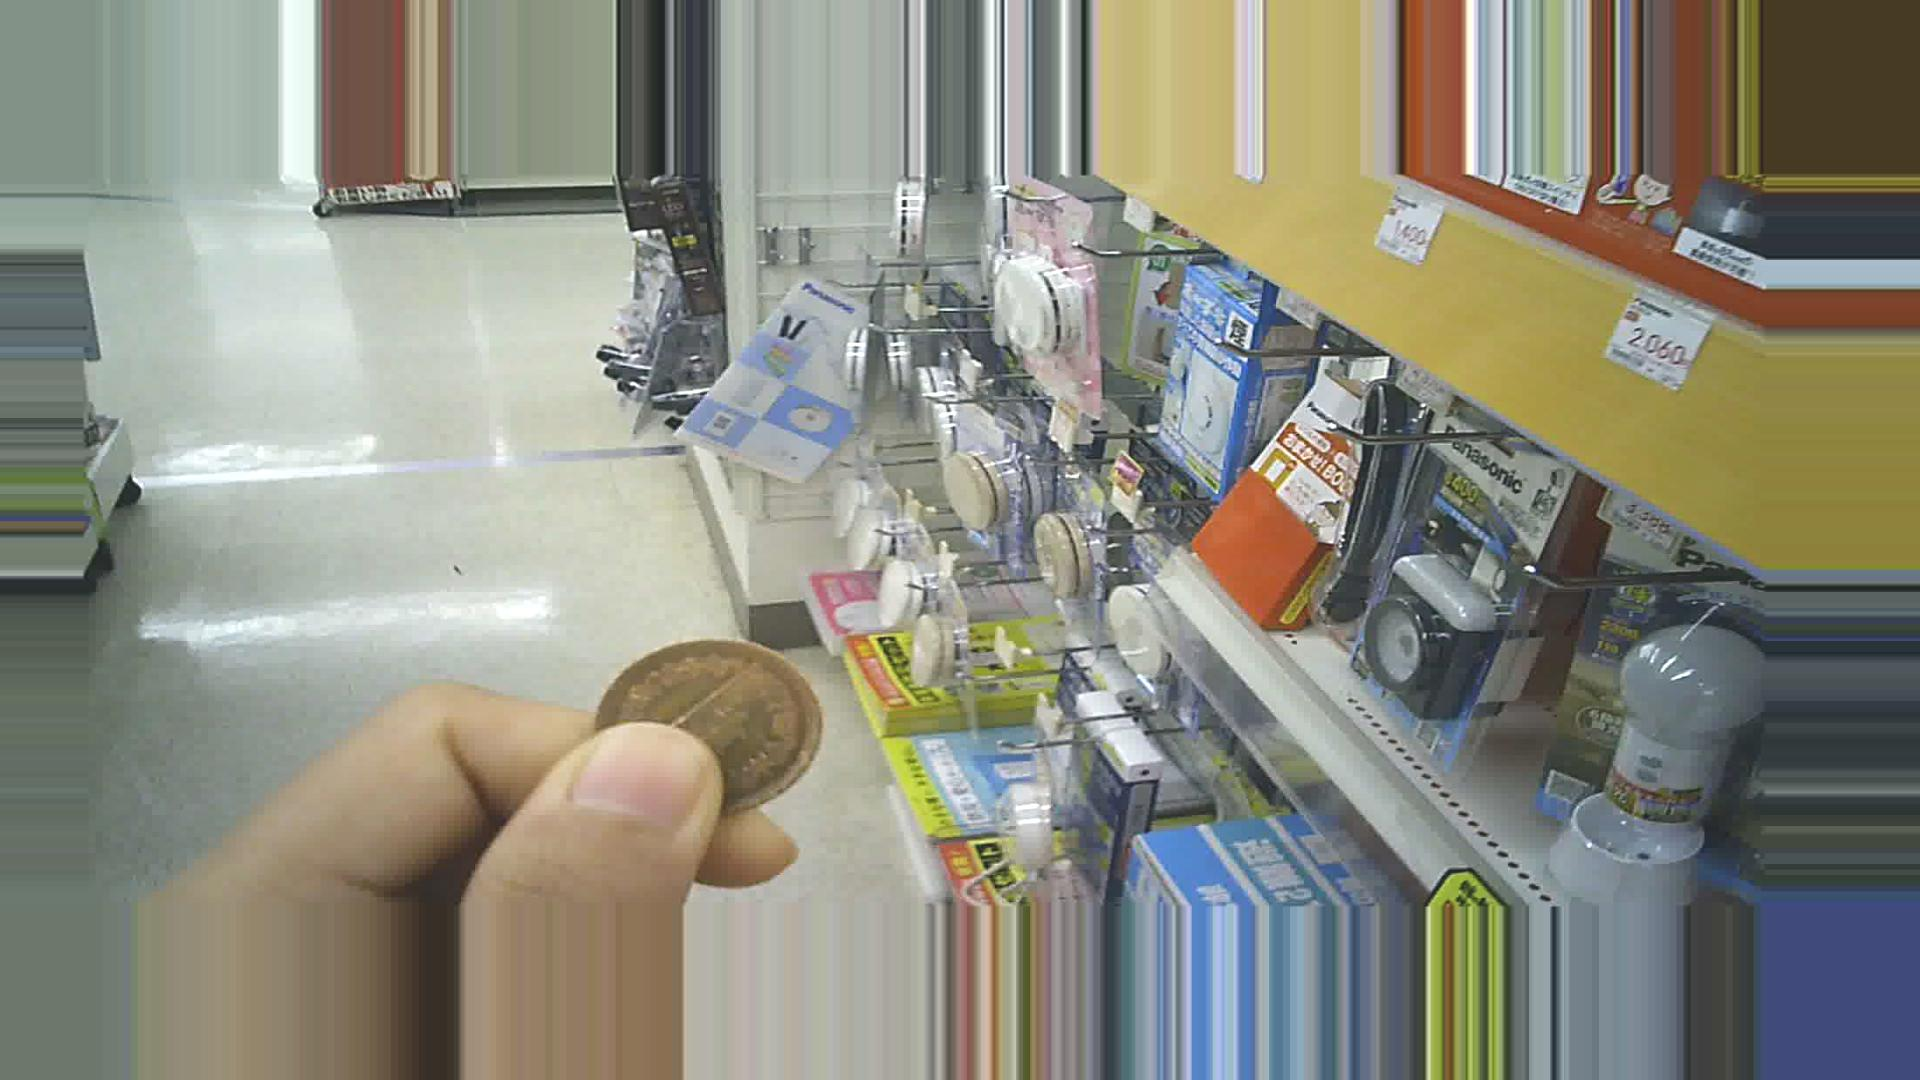10 Yen: (589, 628, 820, 828)
